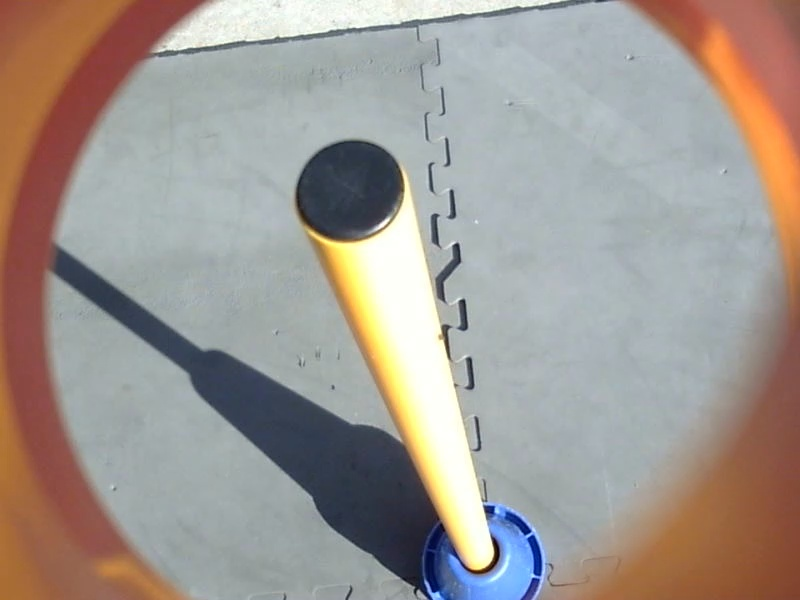tip: (289, 136, 412, 250)
